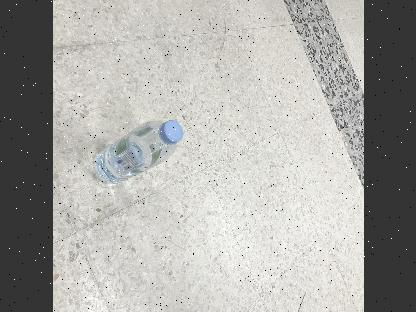Plastic Bottle: (91, 118, 183, 184)
